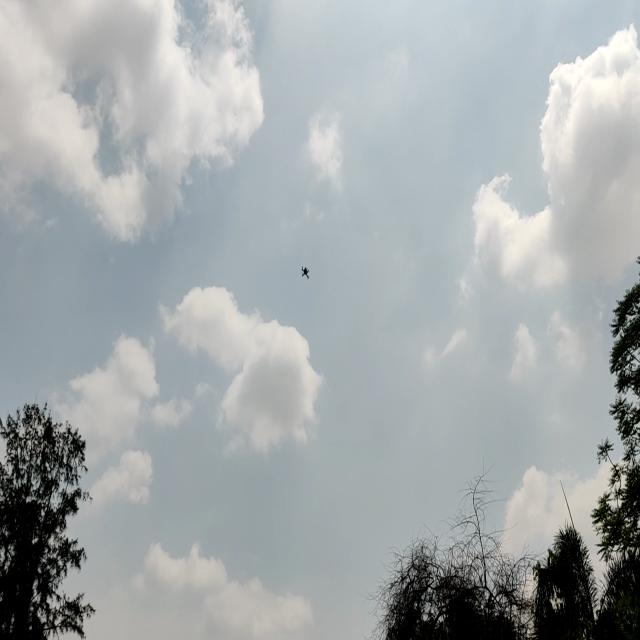drone: (294, 259, 314, 288)
